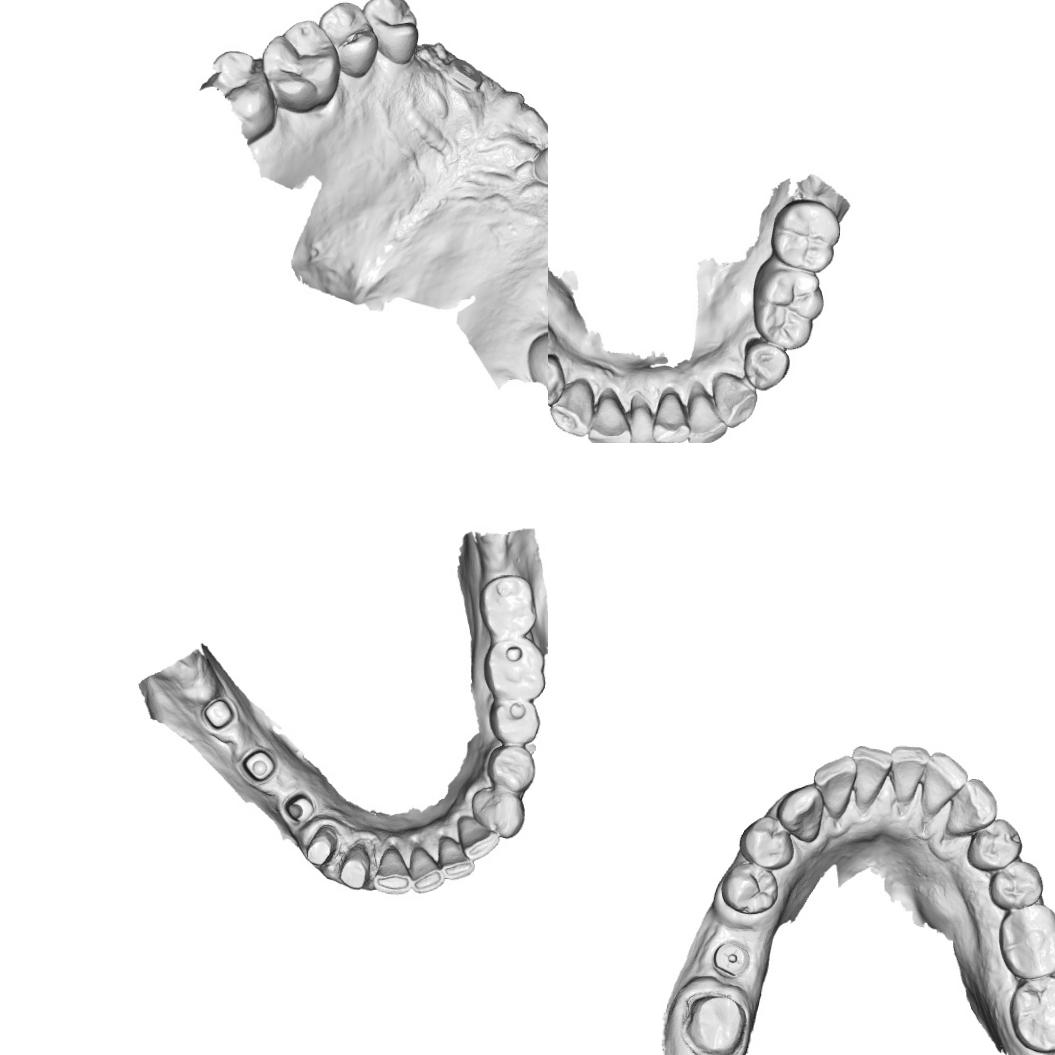abutment: (238, 745, 278, 786), (200, 696, 239, 734), (282, 790, 315, 824)
canine: (942, 776, 1000, 841), (774, 781, 828, 845), (470, 786, 526, 840), (548, 378, 595, 438), (710, 372, 759, 429)
crown: (680, 990, 749, 1055), (338, 837, 376, 890), (305, 822, 342, 868)
implant: (528, 141, 548, 190)
implant_plus: (710, 934, 754, 982)
incisor: (919, 750, 972, 818), (811, 751, 860, 822), (849, 741, 893, 815), (887, 742, 929, 809), (687, 378, 729, 443), (586, 386, 633, 443), (651, 386, 691, 443), (623, 391, 664, 443), (456, 814, 500, 860), (373, 845, 412, 896), (408, 846, 446, 894), (437, 835, 476, 881)
molar: (256, 17, 342, 115), (750, 258, 824, 350), (770, 197, 840, 273), (995, 901, 1055, 981), (1005, 973, 1055, 1055), (482, 638, 546, 701), (477, 573, 538, 637), (523, 325, 548, 390)
premolar: (316, 0, 380, 81), (361, 0, 422, 67), (737, 812, 796, 874), (965, 816, 1025, 876), (719, 859, 781, 917), (985, 858, 1045, 912), (740, 336, 791, 391), (485, 742, 536, 795), (488, 698, 540, 744), (548, 351, 566, 406)
